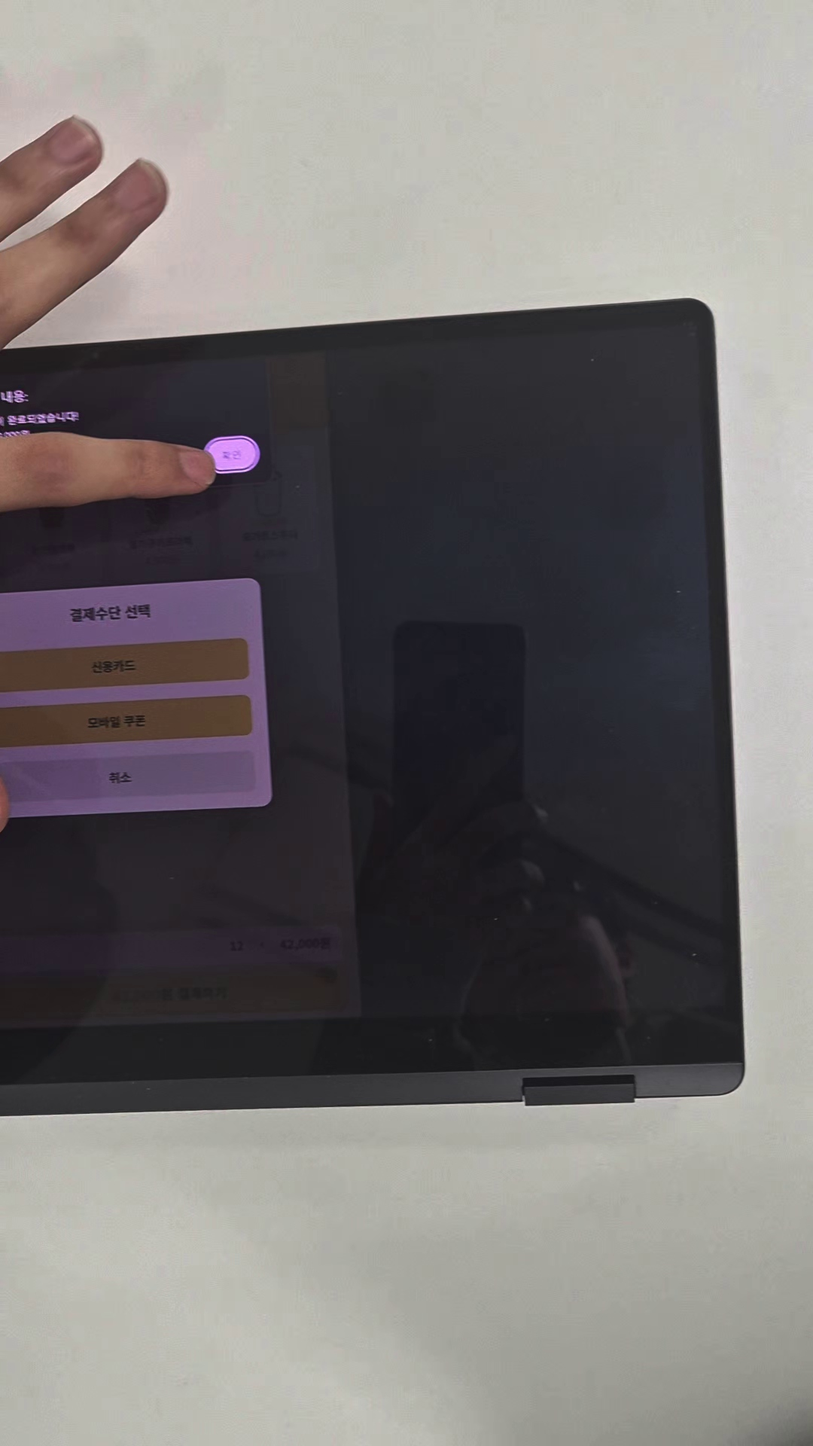option_button: (202, 434, 261, 476)
popup_modal: (265, 356, 273, 504)
